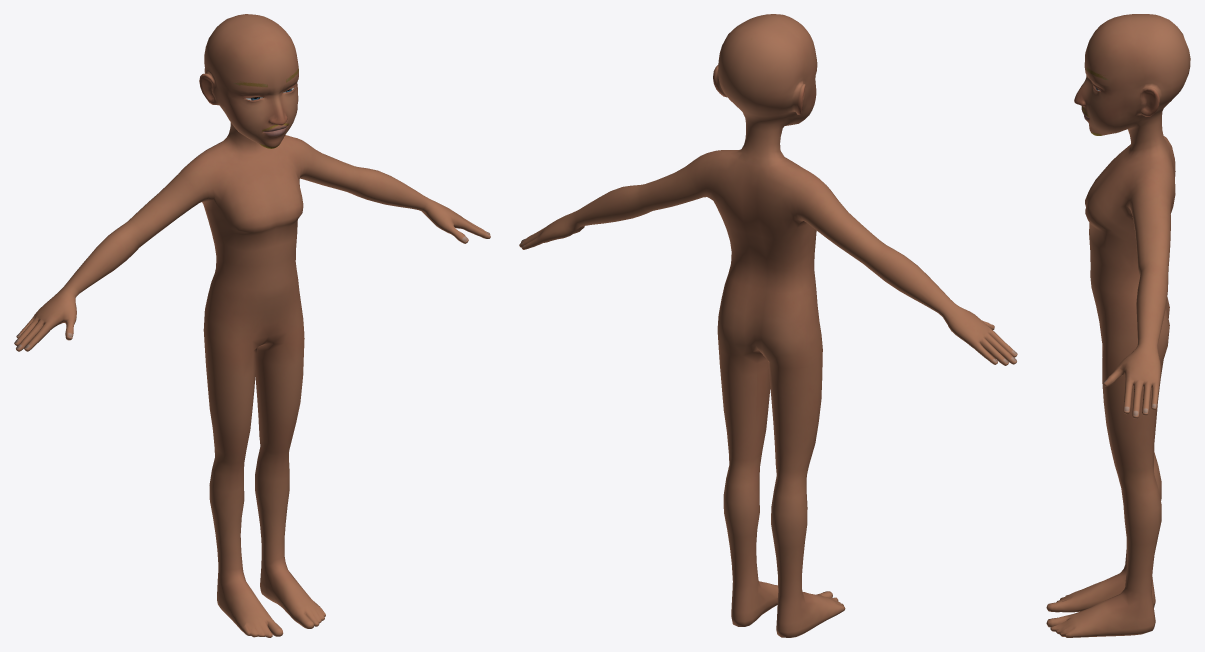
Rendered from frame_0069.glb.
The picture shows the model from 3 angles, left to right: view 1: azimuth 30°, elevation 25°; view 2: azimuth 150°, elevation 25°; view 3: azimuth 270°, elevation 25°; orthographic projection. The views are drawn at different scales.
Parts seen in each view (by area): view 1: frame_0069_head_geo; view 2: frame_0069_head_geo; view 3: frame_0069_head_geo.
Boxes of the visible parts, x1,y1,x2,y2 form: frame_0069_head_geo: (14, 14, 490, 637); frame_0069_head_geo: (519, 14, 1017, 637); frame_0069_head_geo: (1046, 14, 1190, 637).
Size of the model in its own units: 1.28 by 1.5 by 0.3253.
Materials: 3 (3 with a texture image).
